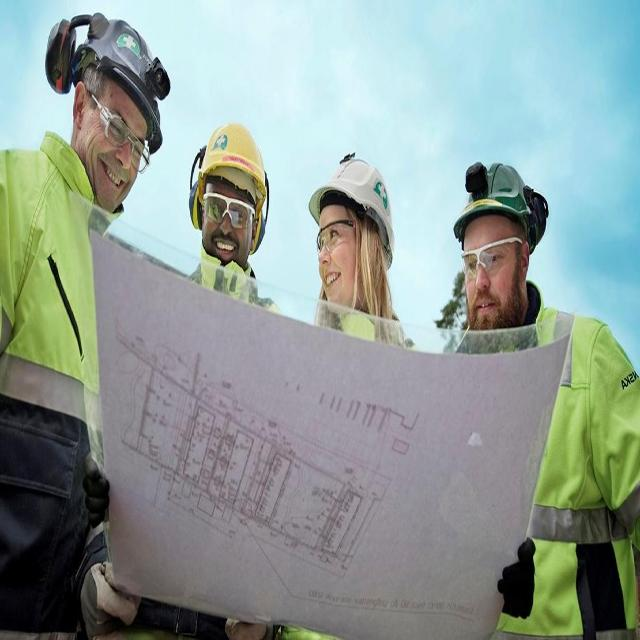Reflective-Jacket: (0, 122, 110, 633), (495, 311, 640, 638)
Safety-Helmet: (307, 146, 397, 230), (195, 114, 269, 199)
